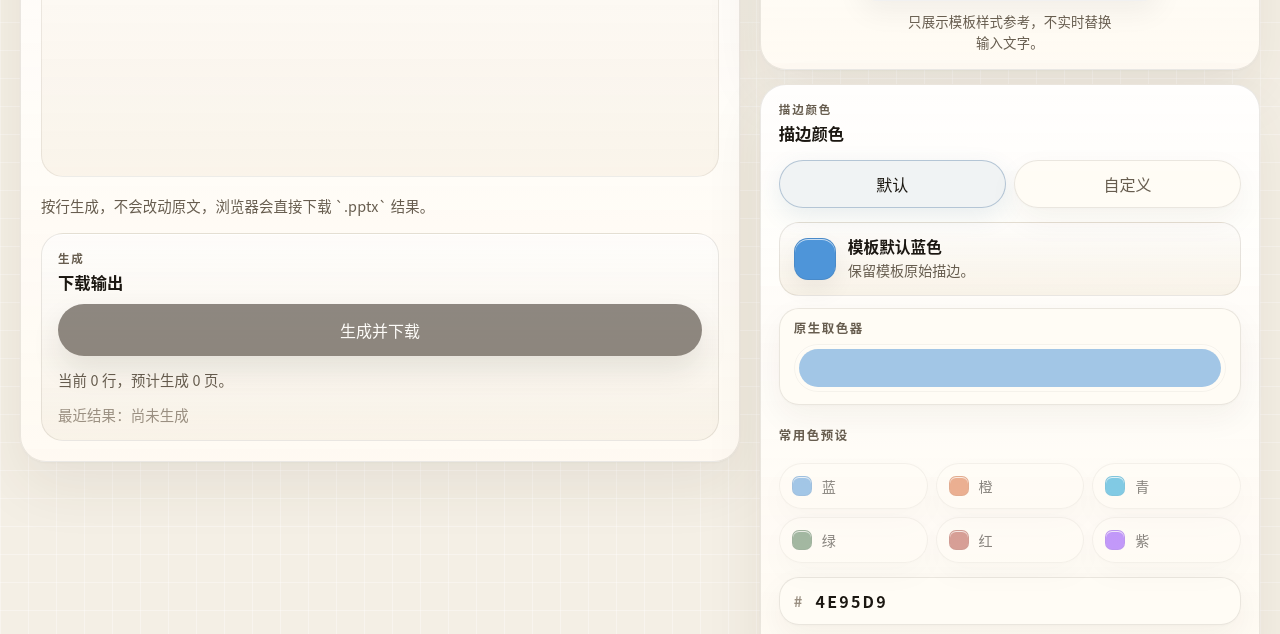
Test: App › syncs the native color picker into the hex input
(page scrolled)
Click the button "自定义" at (1127, 183), box [1014, 159, 1241, 207]
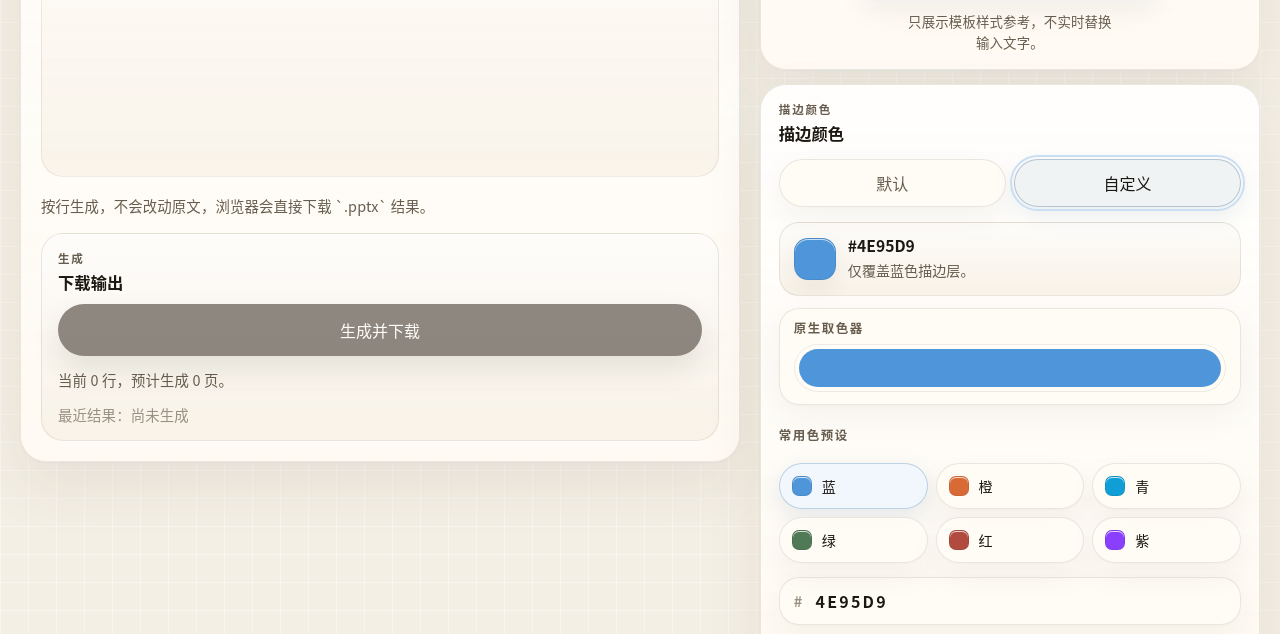
Type "#3b7cff" into the colour field labelled "原生取色器" at (1010, 368), box [794, 344, 1226, 392]
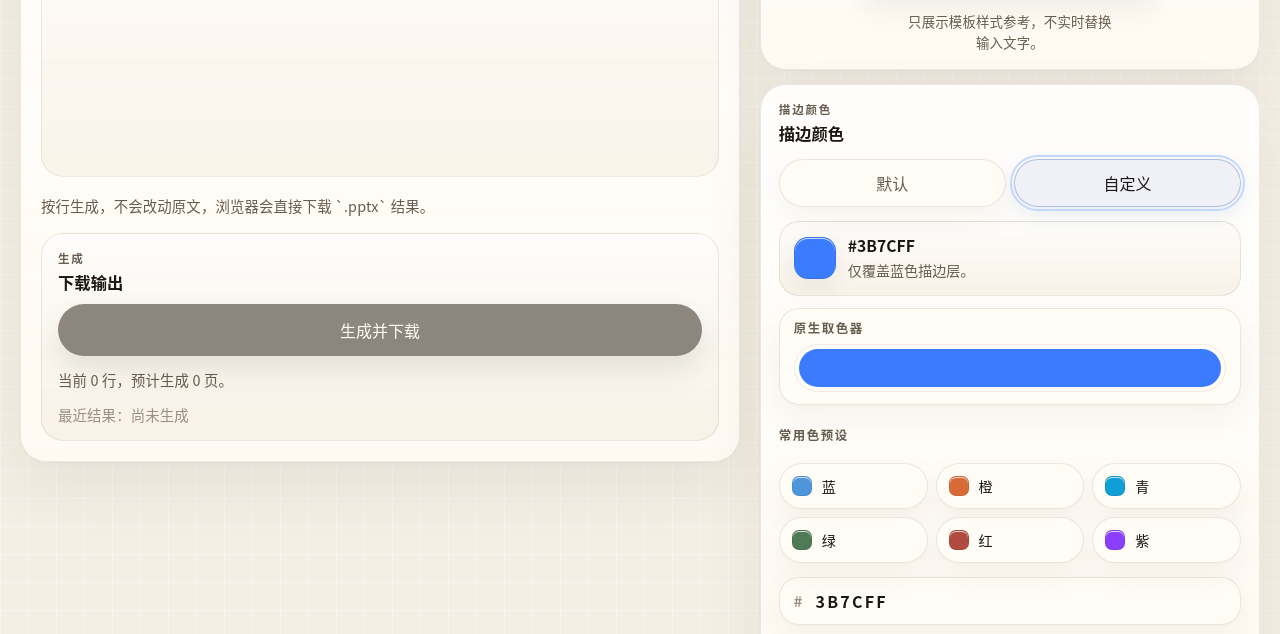
Expected: the field with placeholder "FF6600" holds "3B7CFF", [814, 588, 1226, 614]
Expected: the text "#3B7CFF" is shown, [848, 234, 915, 257]
